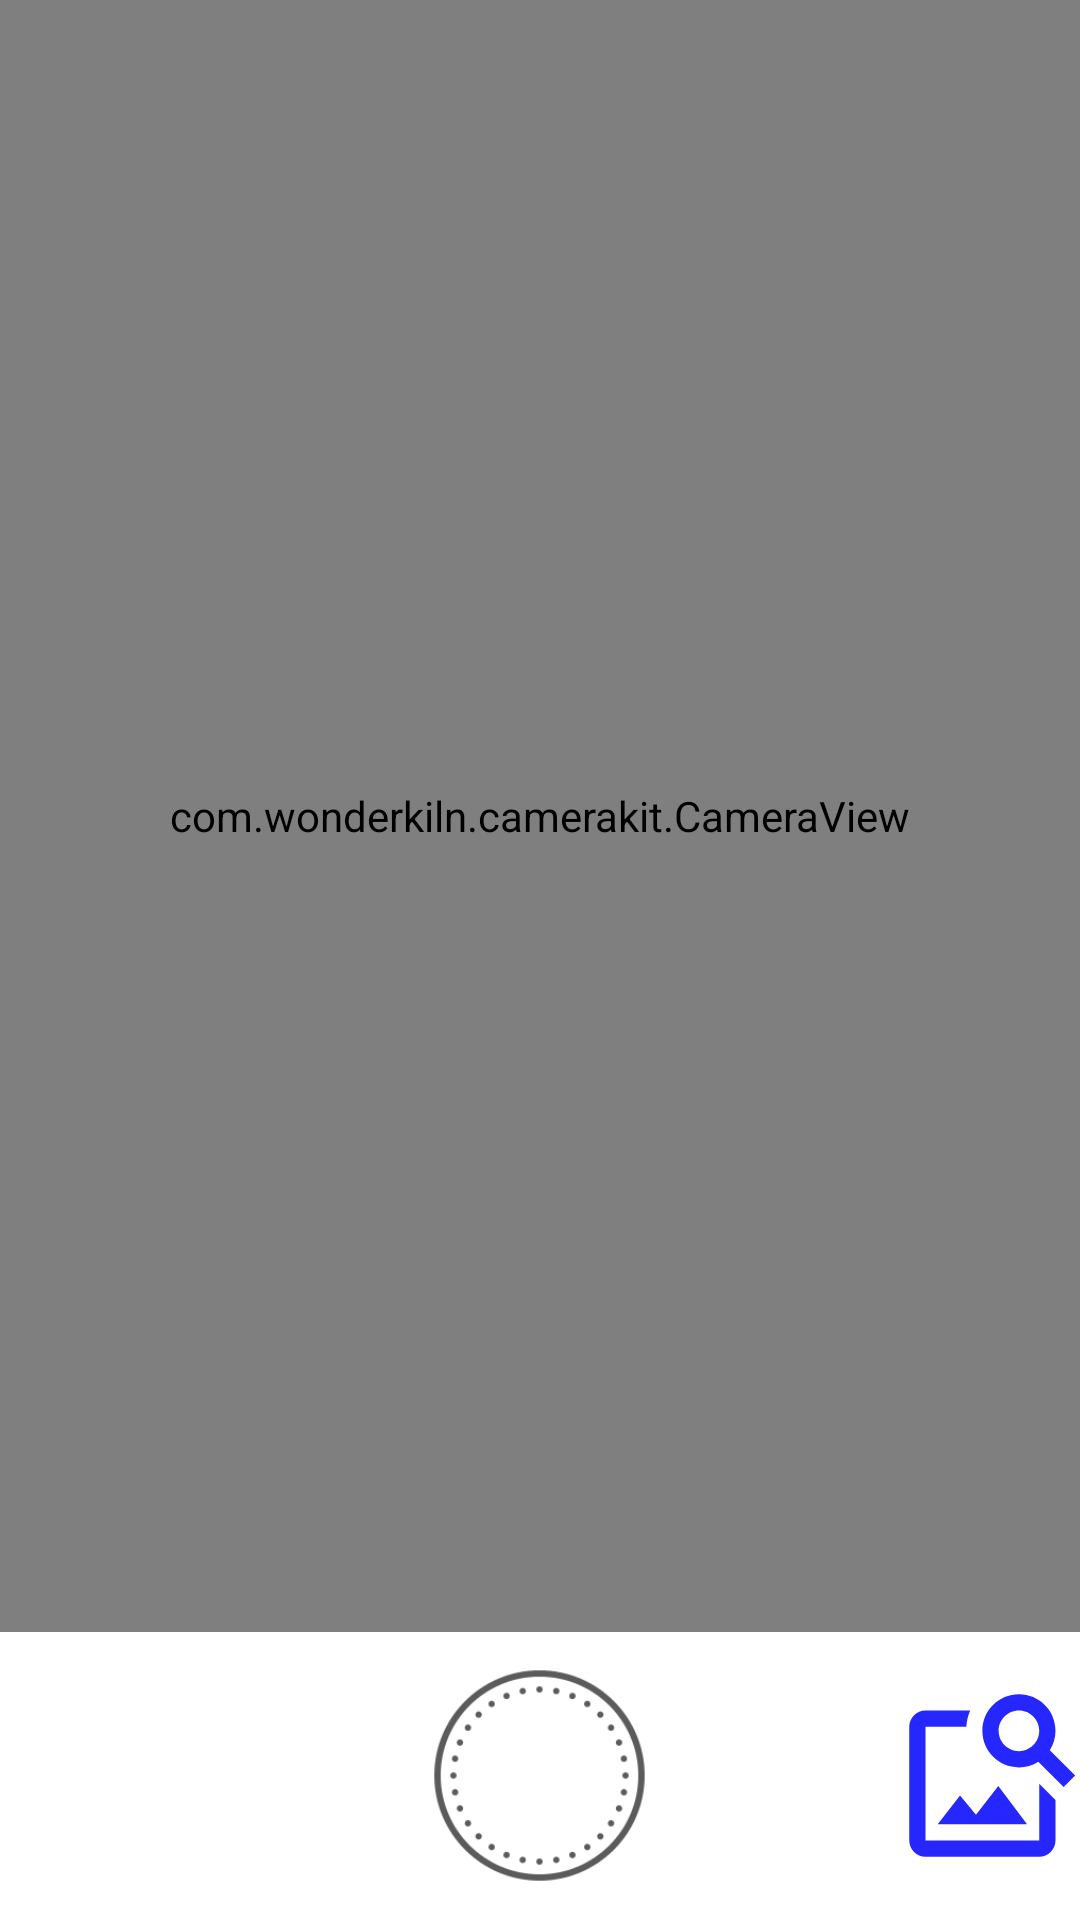

Screen size 1080*1920. Icon name, then its box in pixels as box=[x1, y1, x2, y2]:
gallery: box=[909, 1694, 1075, 1857]
